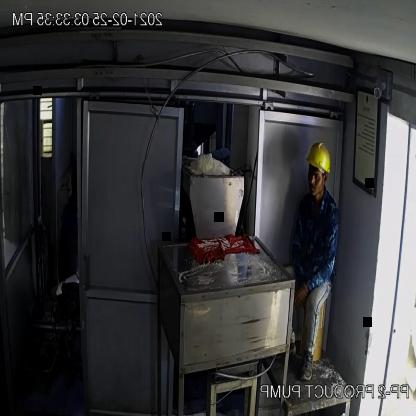helmet: (304, 136, 334, 181)
